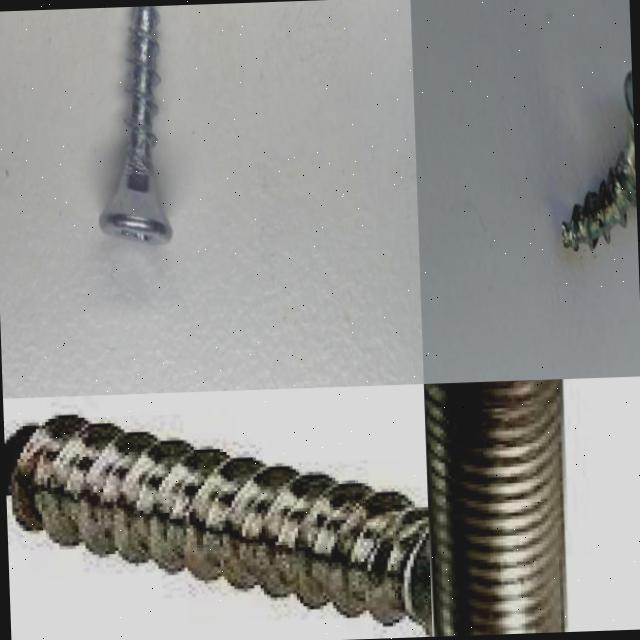Screw: (4, 414, 432, 637), (423, 379, 565, 636), (98, 6, 172, 243), (561, 69, 636, 250)
